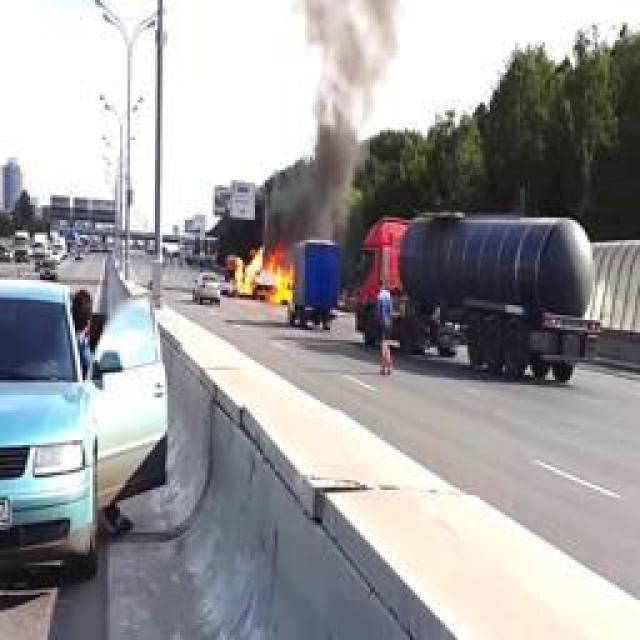Fire: (232, 245, 296, 305)
